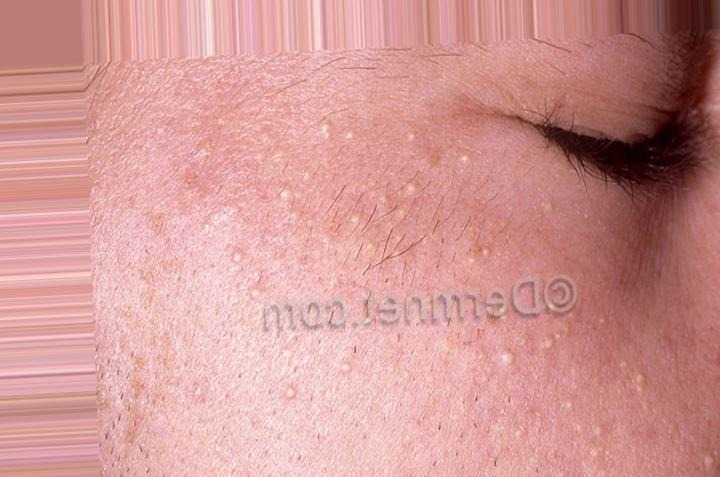Acne: (107, 83, 689, 439)
